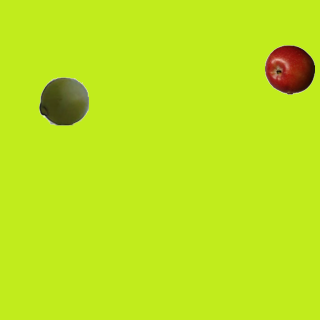Apple Braeburn: (264, 44, 314, 94)
Grape White 4: (38, 75, 88, 125)
